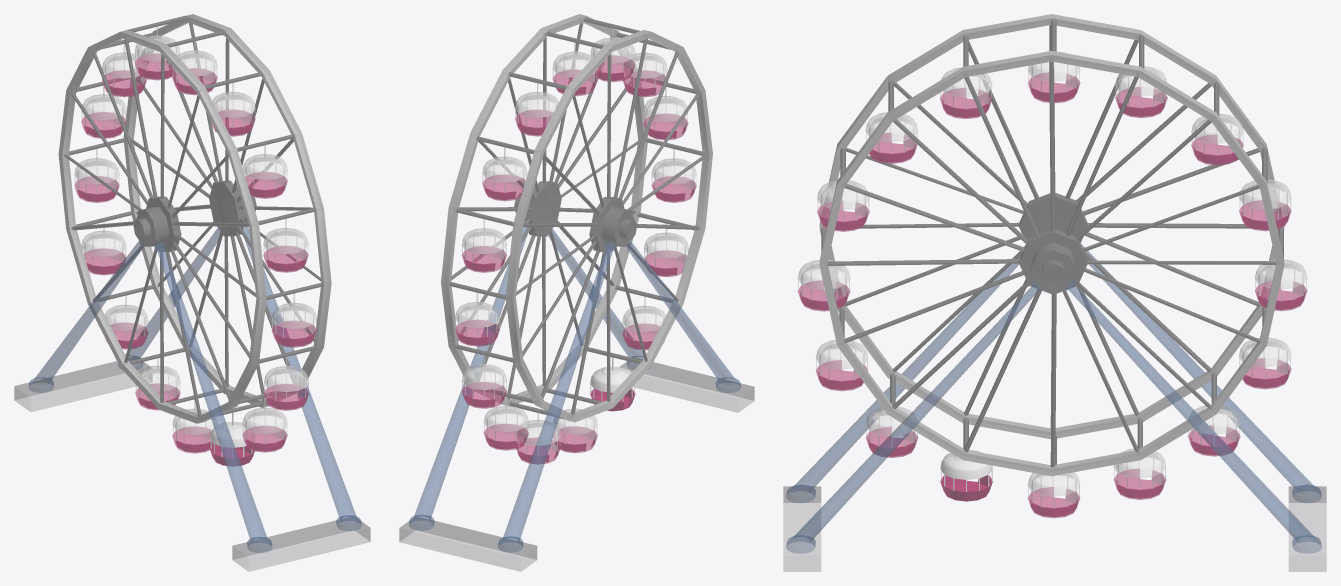
File: FerrisWheel.glb
3 views of the same model, side by side, from view 1: azimuth 30°, elevation 25°; view 2: azimuth 150°, elevation 25°; view 3: azimuth 270°, elevation 25° (orthographic). The views are drawn at different scales.
Parts seen in each view (by area): view 1: SM_FerrisWheel_02.001, SM_FerrisWheel_02.019, SM_FerrisWheel_02, SM_FerrisWheel_02.012, SM_FerrisWheel_02.009, SM_FerrisWheel_02.010, SM_FerrisWheel_02.011, SM_FerrisWheel_02.008, SM_FerrisWheel_02.018, SM_FerrisWheel_02.002, SM_FerrisWheel_02.003, SM_FerrisWheel_02.007 (+8 smaller); view 2: SM_FerrisWheel_02.001, SM_FerrisWheel_02.019, SM_FerrisWheel_02, SM_FerrisWheel_02.002, SM_FerrisWheel_02.003, SM_FerrisWheel_02.018, SM_FerrisWheel_02.017, SM_FerrisWheel_02.004, SM_FerrisWheel_02.016, SM_FerrisWheel_02.011, SM_FerrisWheel_02.010, SM_FerrisWheel_02.009 (+8 smaller); view 3: SM_FerrisWheel_02.001, SM_FerrisWheel_02.019, SM_FerrisWheel_02, SM_FerrisWheel_02.015, SM_FerrisWheel_02.014, SM_FerrisWheel_02.017, SM_FerrisWheel_02.016, SM_FerrisWheel_02.012, SM_FerrisWheel_02.018, SM_FerrisWheel_02.011, SM_FerrisWheel_02.002, SM_FerrisWheel_02.013 (+8 smaller).
Boxes of the visible parts, x1=… form: SM_FerrisWheel_02.001: x1=59, y1=14, x2=331, y2=423; SM_FerrisWheel_02.019: x1=59, y1=14, x2=330, y2=422; SM_FerrisWheel_02: x1=14, y1=227, x2=370, y2=571; SM_FerrisWheel_02.012: x1=242, y1=398, x2=287, y2=452; SM_FerrisWheel_02.009: x1=263, y1=219, x2=308, y2=272; SM_FerrisWheel_02.010: x1=272, y1=293, x2=316, y2=347; SM_FerrisWheel_02.011: x1=264, y1=356, x2=308, y2=410; SM_FerrisWheel_02.008: x1=243, y1=145, x2=287, y2=198; SM_FerrisWheel_02.018: x1=81, y1=221, x2=126, y2=274; SM_FerrisWheel_02.002: x1=74, y1=149, x2=119, y2=202; SM_FerrisWheel_02.003: x1=81, y1=85, x2=126, y2=138; SM_FerrisWheel_02.007: x1=211, y1=82, x2=255, y2=136; SM_FerrisWheel_02.001: x1=441, y1=14, x2=712, y2=421; SM_FerrisWheel_02.019: x1=441, y1=14, x2=712, y2=421; SM_FerrisWheel_02: x1=399, y1=227, x2=754, y2=571; SM_FerrisWheel_02.002: x1=455, y1=293, x2=499, y2=346; SM_FerrisWheel_02.003: x1=462, y1=219, x2=506, y2=272; SM_FerrisWheel_02.018: x1=462, y1=355, x2=506, y2=408; SM_FerrisWheel_02.017: x1=484, y1=397, x2=528, y2=450; SM_FerrisWheel_02.004: x1=482, y1=147, x2=527, y2=200; SM_FerrisWheel_02.016: x1=516, y1=413, x2=560, y2=464; SM_FerrisWheel_02.011: x1=644, y1=223, x2=688, y2=276; SM_FerrisWheel_02.010: x1=651, y1=149, x2=696, y2=202; SM_FerrisWheel_02.009: x1=643, y1=87, x2=688, y2=139; SM_FerrisWheel_02.001: x1=820, y1=14, x2=1283, y2=475; SM_FerrisWheel_02.019: x1=820, y1=14, x2=1283, y2=475; SM_FerrisWheel_02: x1=783, y1=244, x2=1326, y2=571; SM_FerrisWheel_02.015: x1=1028, y1=472, x2=1079, y2=517; SM_FerrisWheel_02.014: x1=940, y1=450, x2=992, y2=501; SM_FerrisWheel_02.017: x1=1188, y1=405, x2=1240, y2=456; SM_FerrisWheel_02.016: x1=1114, y1=448, x2=1165, y2=499; SM_FerrisWheel_02.012: x1=866, y1=407, x2=917, y2=457; SM_FerrisWheel_02.018: x1=1239, y1=338, x2=1291, y2=388; SM_FerrisWheel_02.011: x1=816, y1=340, x2=867, y2=390; SM_FerrisWheel_02.002: x1=1255, y1=259, x2=1307, y2=310; SM_FerrisWheel_02.013: x1=941, y1=450, x2=992, y2=500.
Size of the model in its own units: 14.97 by 50.92 by 49.75.
